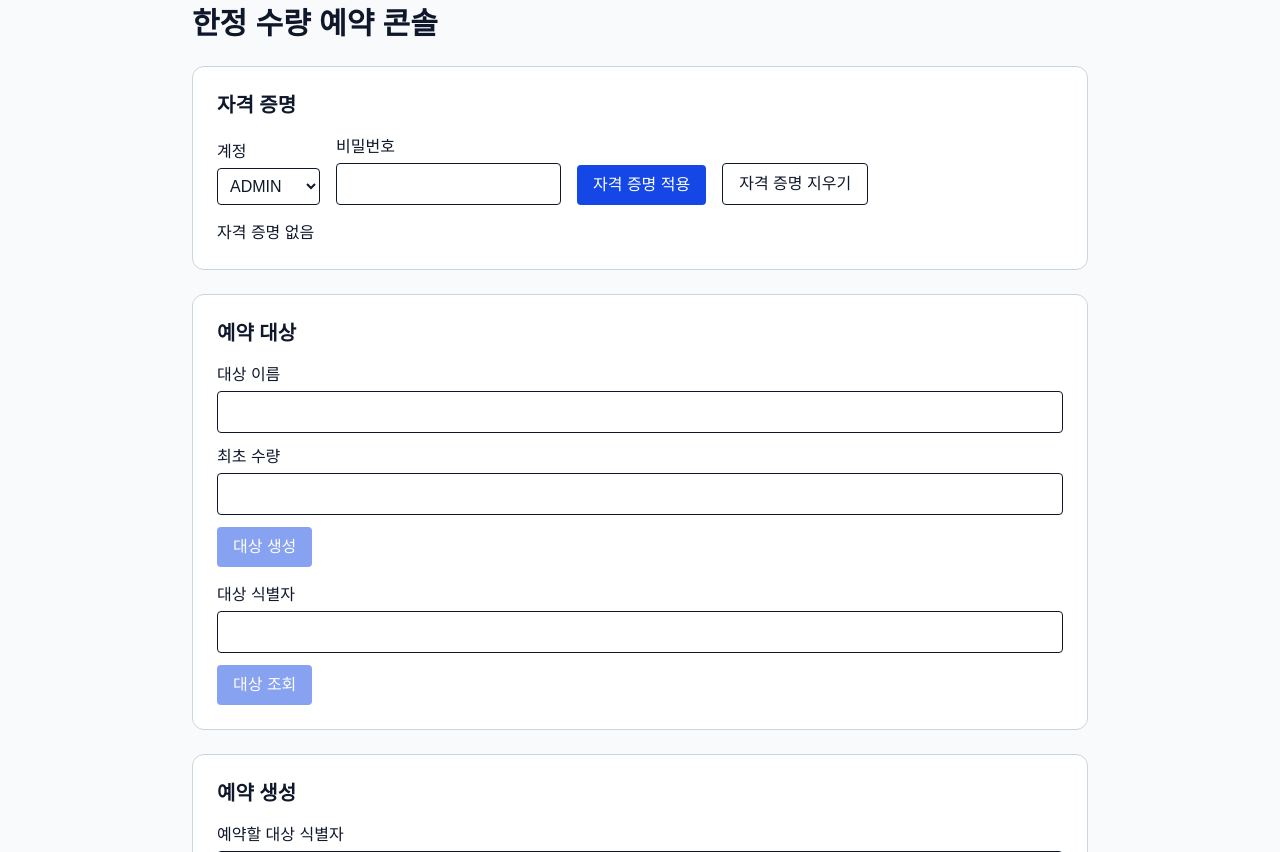
Test case: 최근 기록 표시와 저장 › 기록 지우기는 화면과 저장소의 기록을 모두 비운다
Select "USER_A" in the dropdown labelled "계정" at (268, 186), box top-left (217, 168), bottom-right (320, 205)
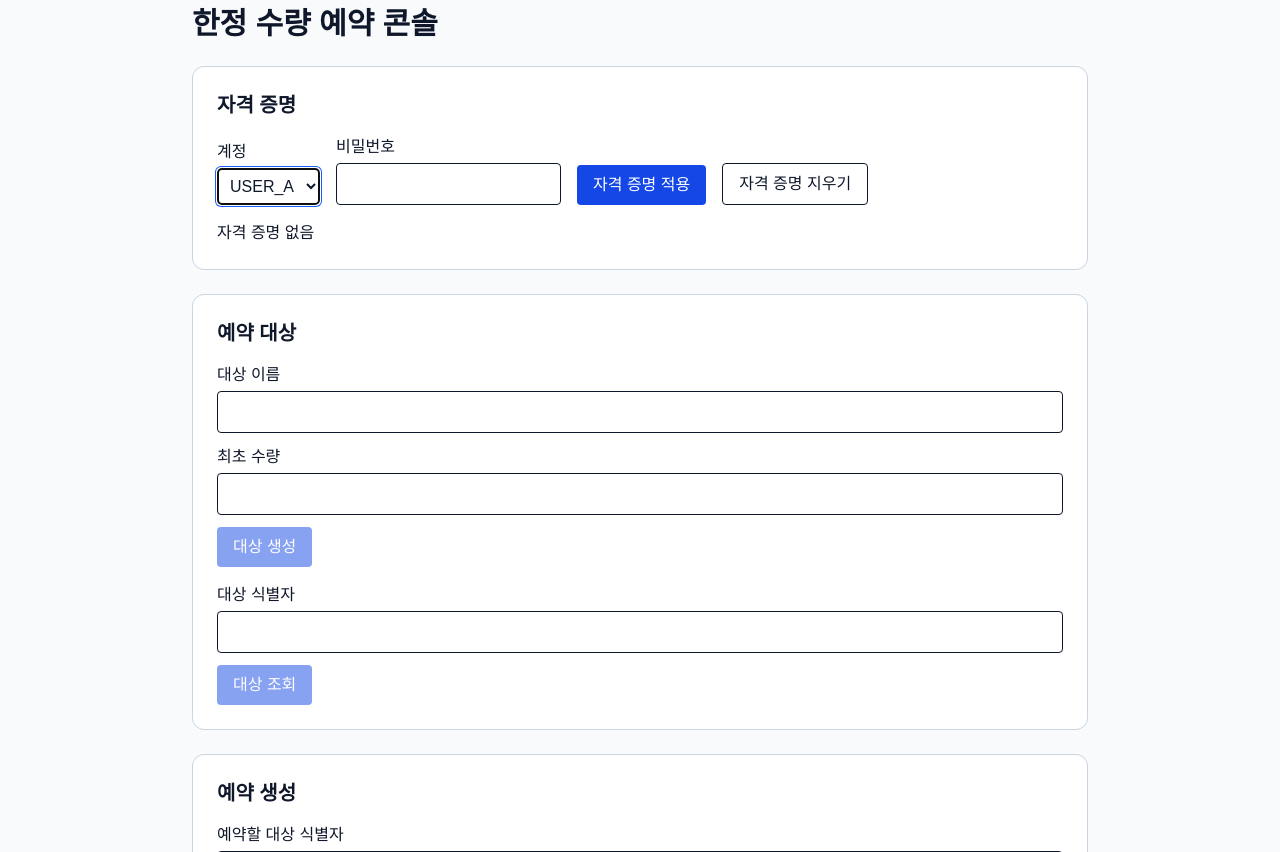
Type "history-secret-password" into the password field labelled "비밀번호" at (448, 184), box top-left (336, 163), bottom-right (561, 205)
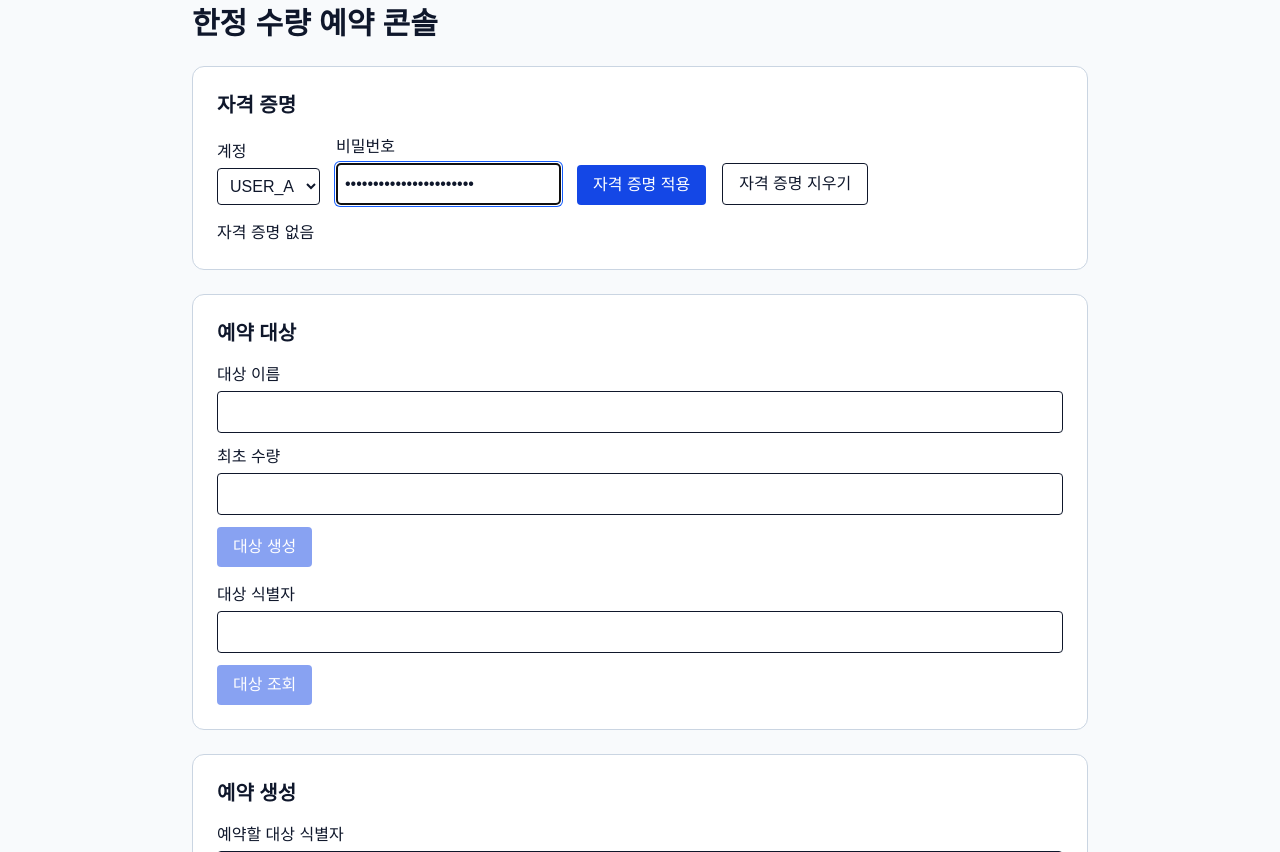
Click the button "자격 증명 적용" at (642, 185), box top-left (577, 165), bottom-right (706, 205)
(page scrolled)
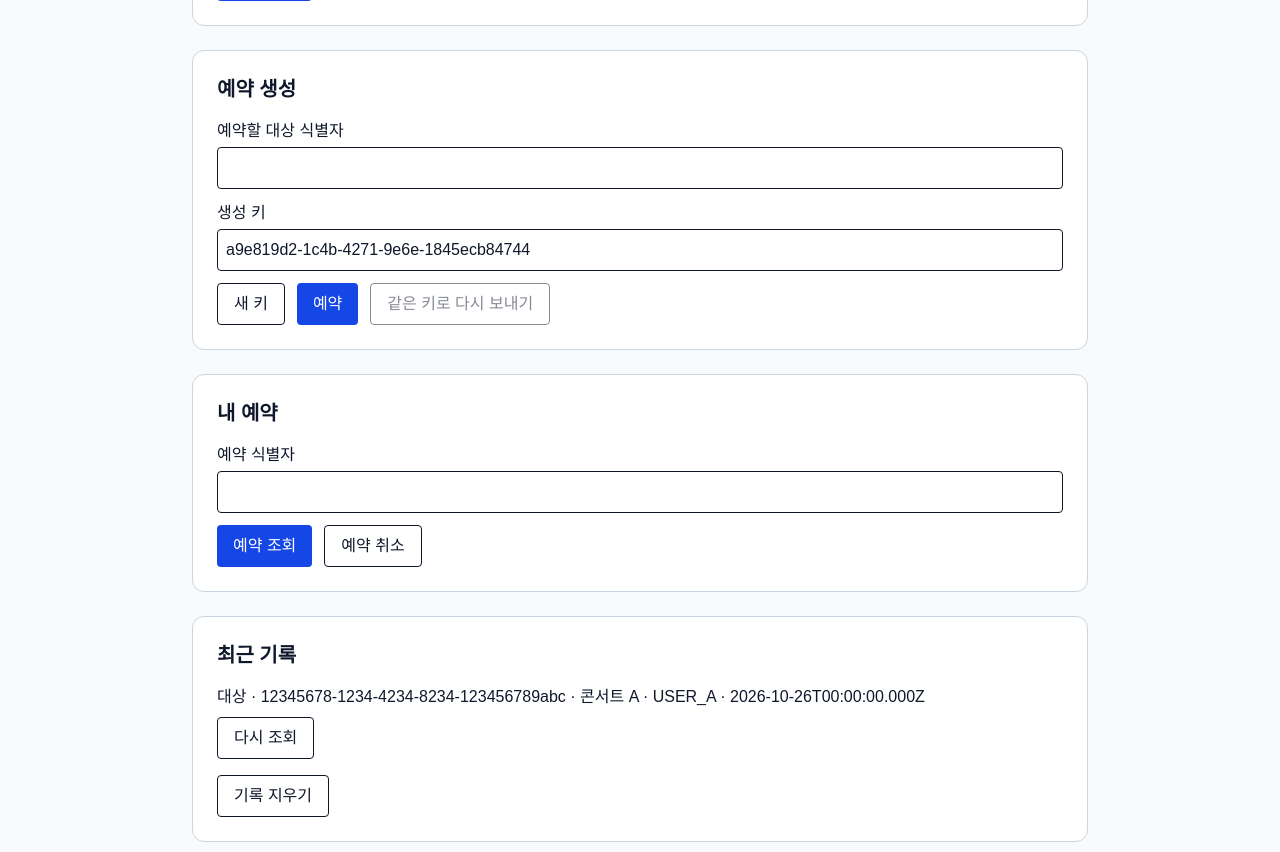
Click the button "기록 지우기" at (273, 796), box top-left (217, 775), bottom-right (329, 817)
(page scrolled)
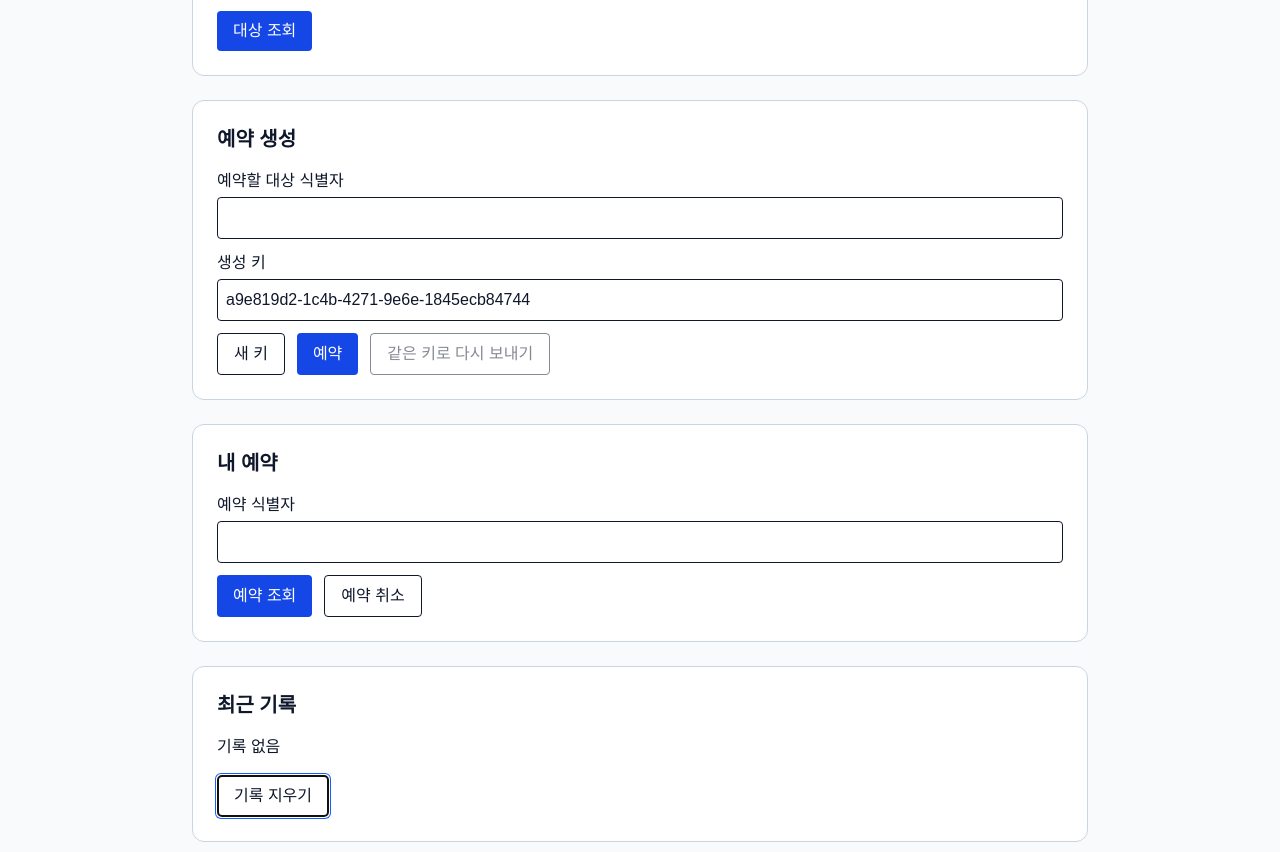
Expected: the text "기록 없음" is shown, top-left (217, 738), bottom-right (280, 755)
